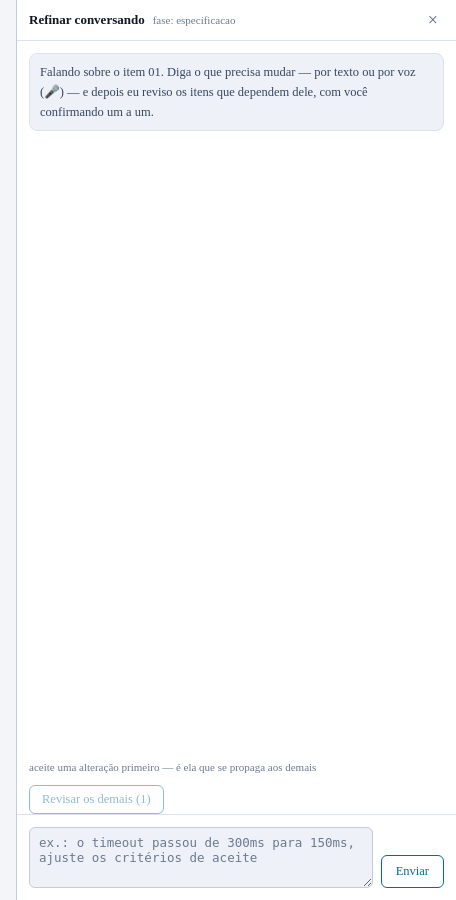
Test: ConversaEspecificacao (SPEC-27 Fase 2 — alterar item e revisar os demais) › Rejeitar não aplica nada e tira o cartão de pendente
The image size is (456, 900).
Replace the text in the text box named "Descreva o que você quer" with "x": [201, 858] box [29,827,373,888]
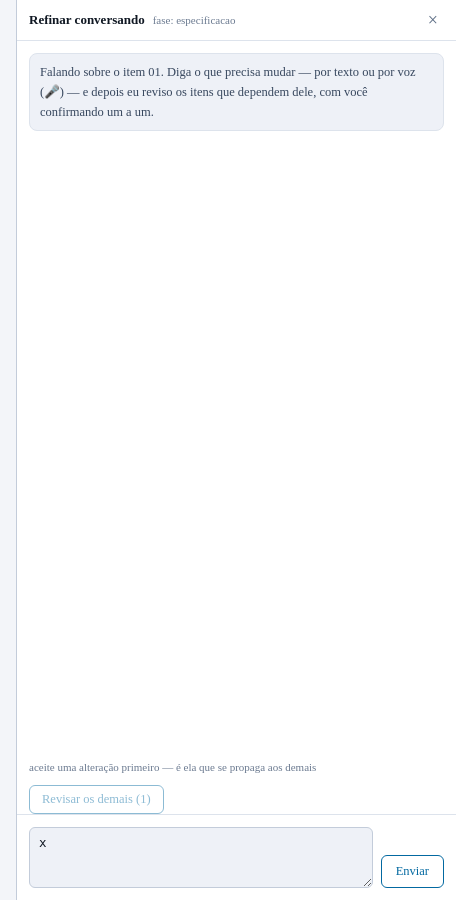
Click the button "Enviar": [412, 872] box [381,855,444,888]
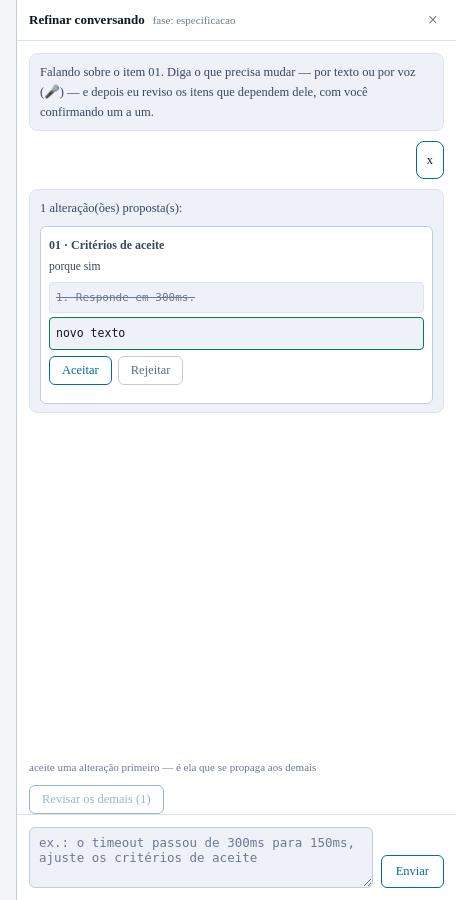
Expected: the button "Rejeitar" is shown
Click the button "Rejeitar": [151, 370] box [118,356,183,385]
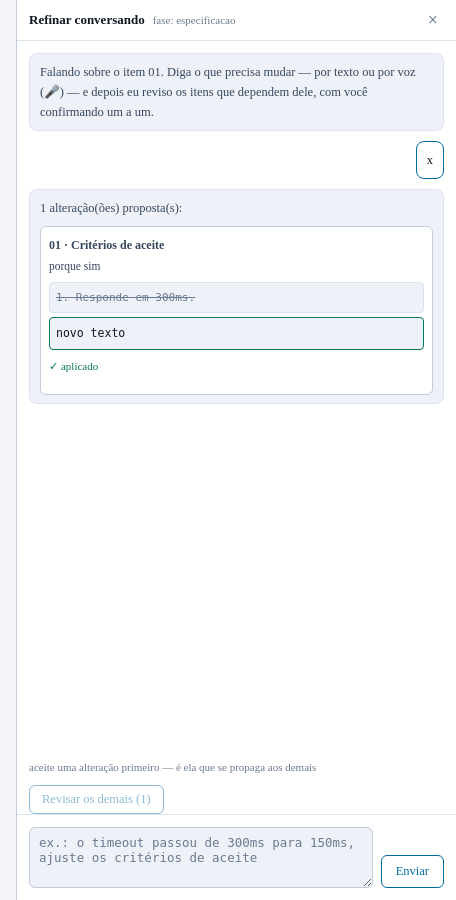
Expected: the button "Aceitar" is gone
